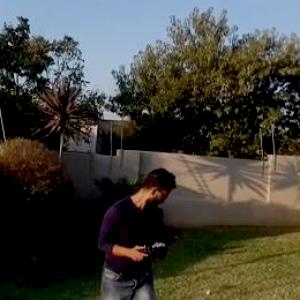follow: (91, 161, 180, 299)
